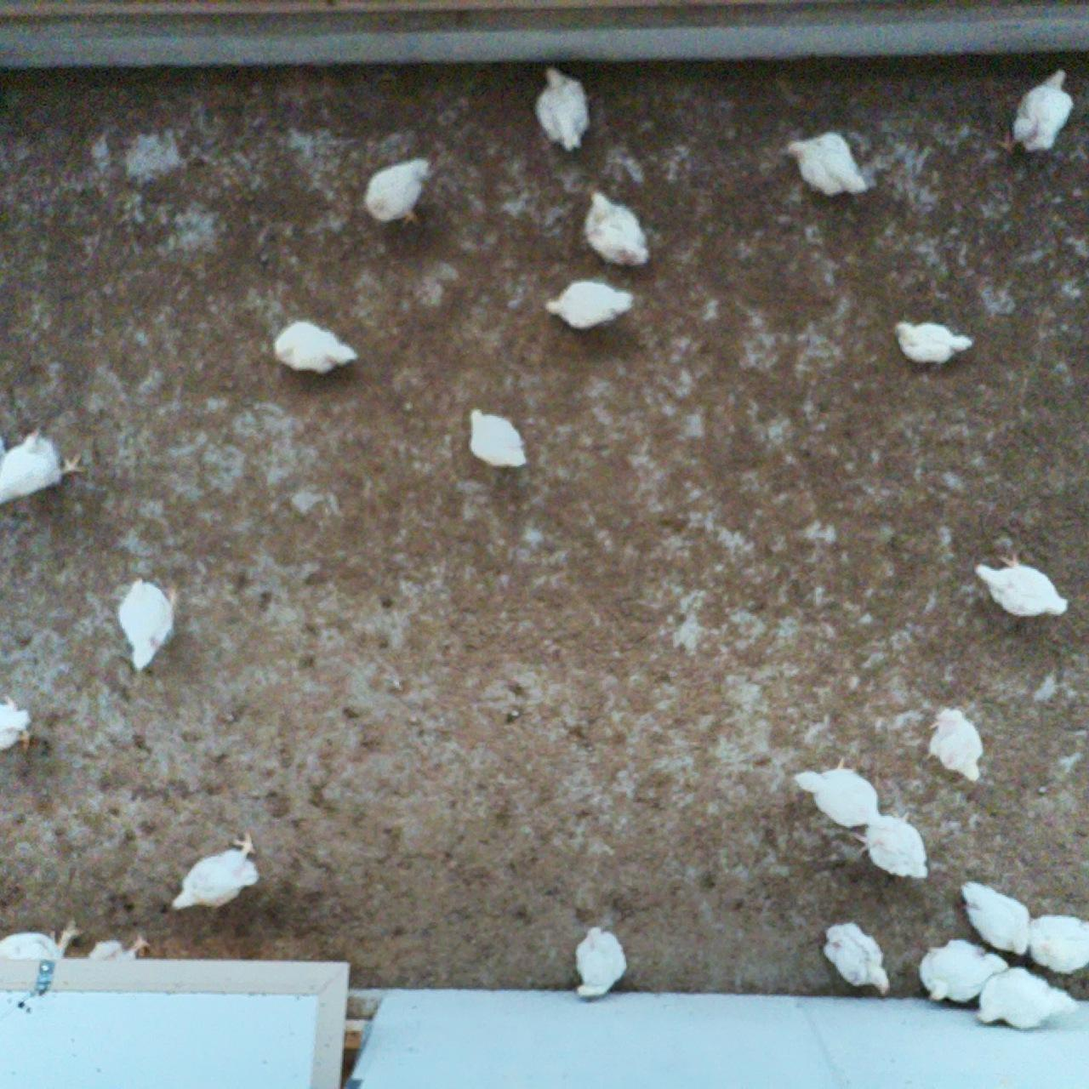chicken: (0, 916, 88, 1029), (970, 965, 1083, 1032), (970, 548, 1070, 623), (997, 68, 1077, 161), (170, 834, 263, 912), (0, 423, 84, 507), (70, 933, 160, 1011), (919, 936, 1010, 1008), (793, 755, 881, 828), (961, 875, 1031, 966), (819, 915, 893, 999), (784, 129, 871, 200), (115, 574, 178, 672), (581, 182, 652, 268), (854, 811, 931, 887), (364, 152, 437, 230), (269, 316, 358, 378), (532, 65, 595, 151), (921, 705, 985, 787), (545, 278, 636, 335), (566, 925, 631, 1003), (463, 401, 531, 470), (1023, 912, 1089, 977), (894, 319, 974, 368), (0, 693, 32, 760)
